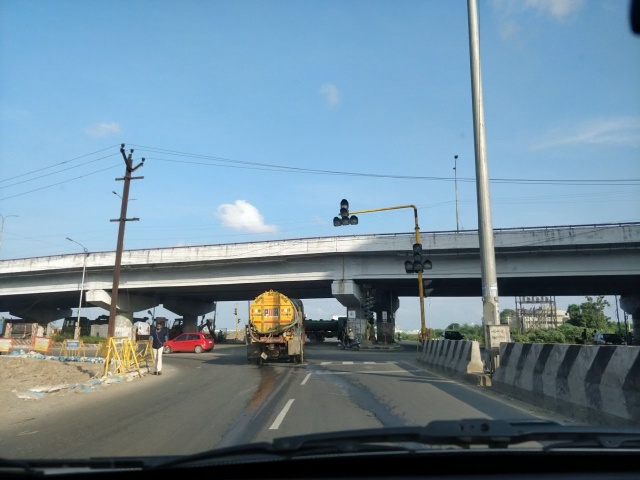car: (159, 331, 214, 353)
motorbike: (339, 327, 364, 352)
person: (151, 321, 164, 376)
truck: (237, 288, 309, 364)
